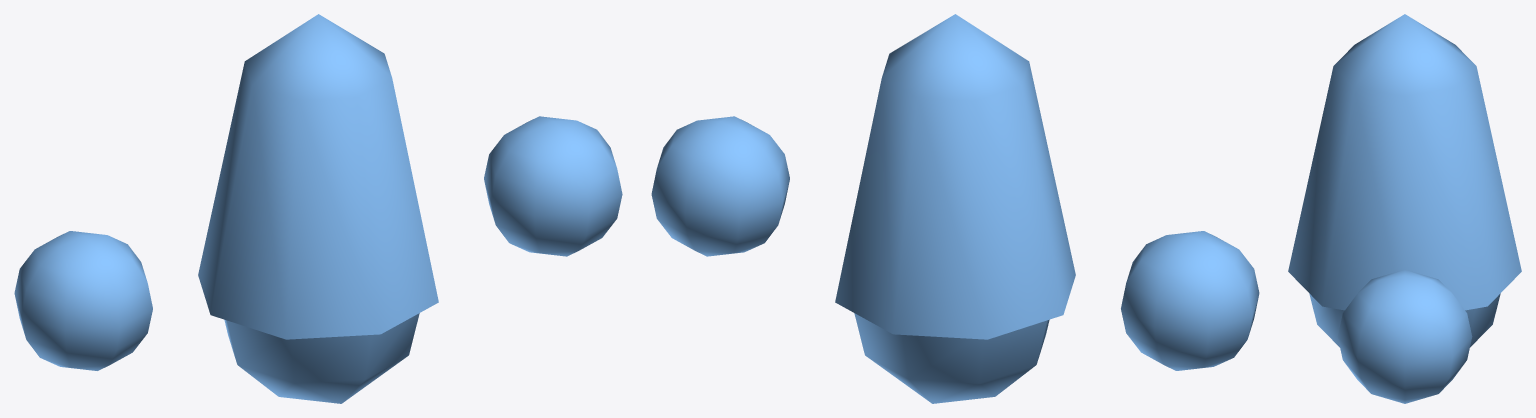
Rendered from male_combined.glb.
The picture shows the model from 3 angles, left to right: view 1: azimuth 30°, elevation 25°; view 2: azimuth 150°, elevation 25°; view 3: azimuth 270°, elevation 25°; orthographic projection. The views are drawn at different scales.
Visible parts, largest first — view 1: bodyPs, handRPs, handLPs; view 2: bodyPs, handRPs, handLPs; view 3: bodyPs, handRPs.
Boxes of the visible parts, x1,y1,x2,y2 form: bodyPs: (198,14,438,403); handRPs: (484,116,622,256); handLPs: (14,231,152,370); bodyPs: (835,14,1075,403); handRPs: (651,116,789,256); handLPs: (1121,231,1259,370); bodyPs: (1288,14,1521,347); handRPs: (1337,269,1472,403).
Bounding box in the file's own units: 97.68 × 60.23 × 35.53.
